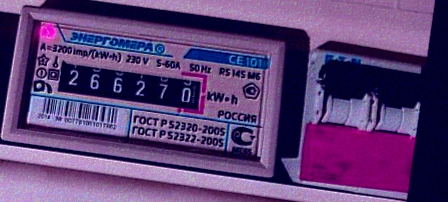0: (179, 85, 193, 104)
2: (65, 67, 80, 87), (133, 78, 147, 97)
6: (110, 76, 125, 95), (88, 71, 102, 91)
7: (156, 81, 169, 100)
screen: (46, 50, 214, 121)
